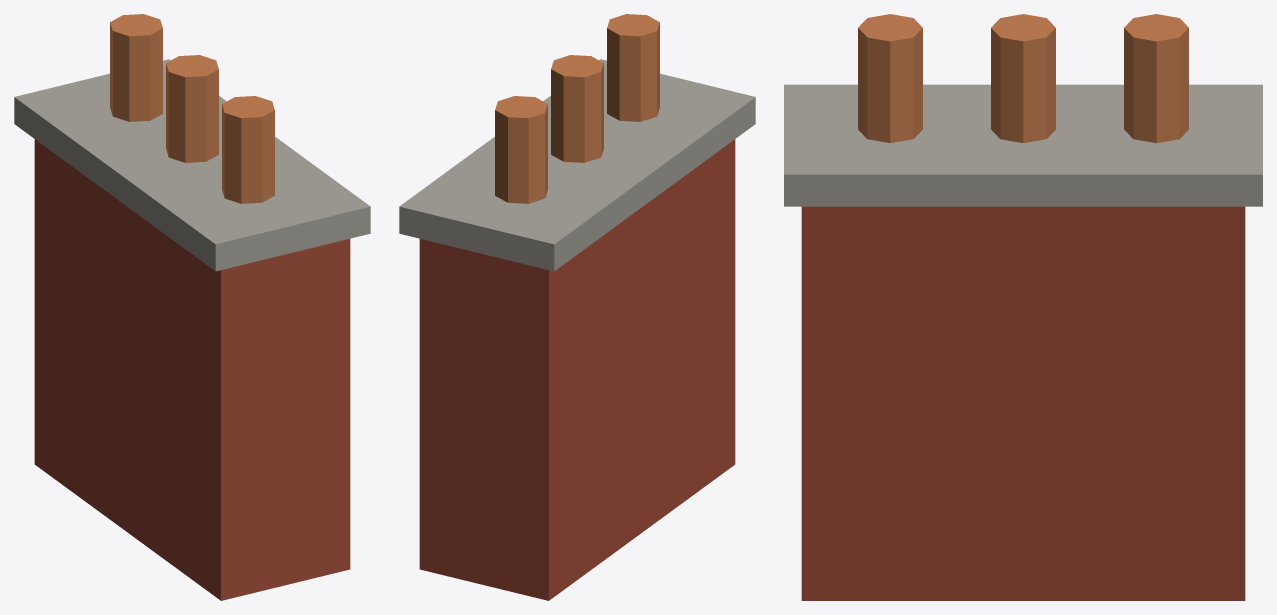
The model's file is roofprop.fbx.
3 renders of one model, left to right at view 1: azimuth 30°, elevation 25°; view 2: azimuth 150°, elevation 25°; view 3: azimuth 270°, elevation 25°, orthographic. The views are drawn at different scales.
Parts seen in each view (by area): view 1: a2003/700/roofprop; view 2: a2003/700/roofprop; view 3: a2003/700/roofprop.
Part boxes in pixels (x1,y1,x2,y2): a2003/700/roofprop: (14,14,370,600); a2003/700/roofprop: (399,14,755,600); a2003/700/roofprop: (784,14,1262,600).
Size of the model in its own units: 0.72 by 2 by 1.62.
